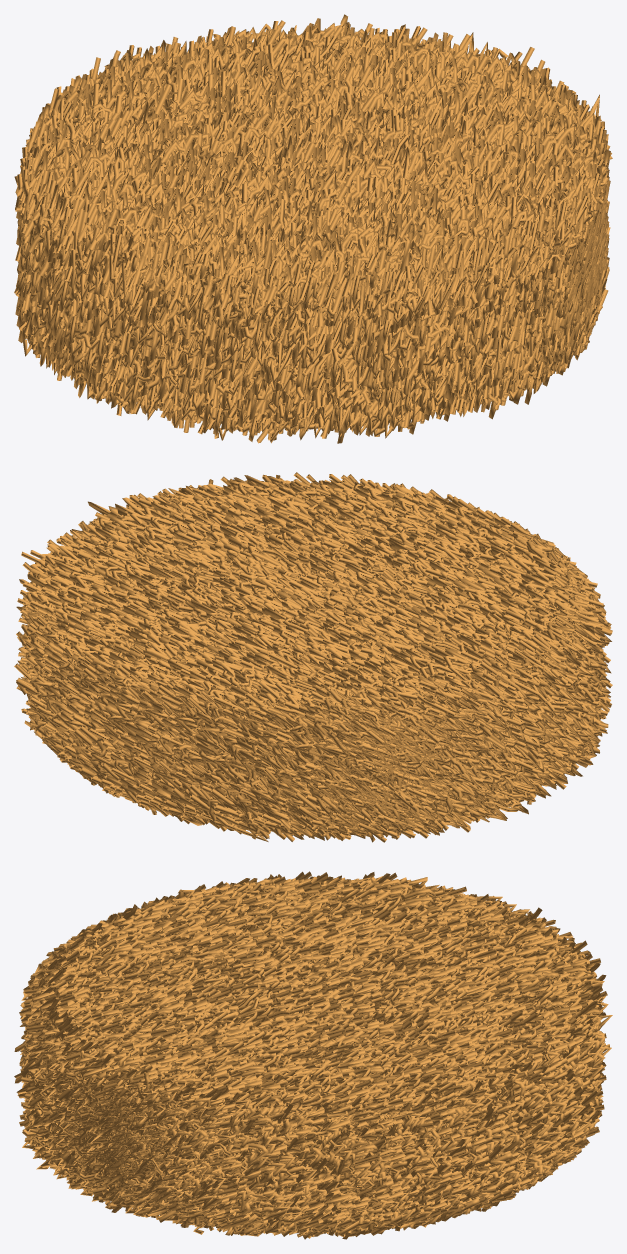
File: NoodlePancake1.fbx
3 renders of one model, top to bottom at view 1: azimuth 30°, elevation 25°; view 2: azimuth 150°, elevation 25°; view 3: azimuth 270°, elevation 25°, orthographic. The views are drawn at different scales.
Visible parts, largest first — view 1: Circle; view 2: Circle; view 3: Circle.
Boxes of the visible parts, left/top/right/bottom form: Circle: left=14, top=14, right=612, bottom=443; Circle: left=14, top=472, right=612, bottom=842; Circle: left=14, top=871, right=612, bottom=1239.
Bounding box in the file's own units: 877 × 282 × 877.
